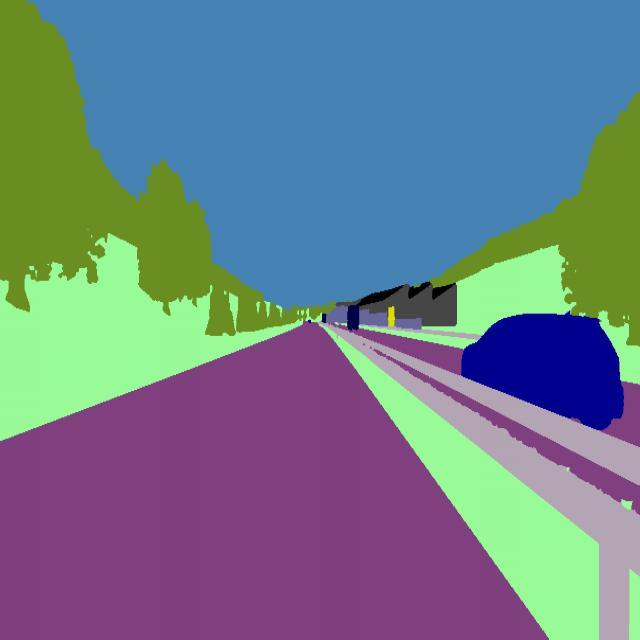safe: (461, 312, 628, 432)
